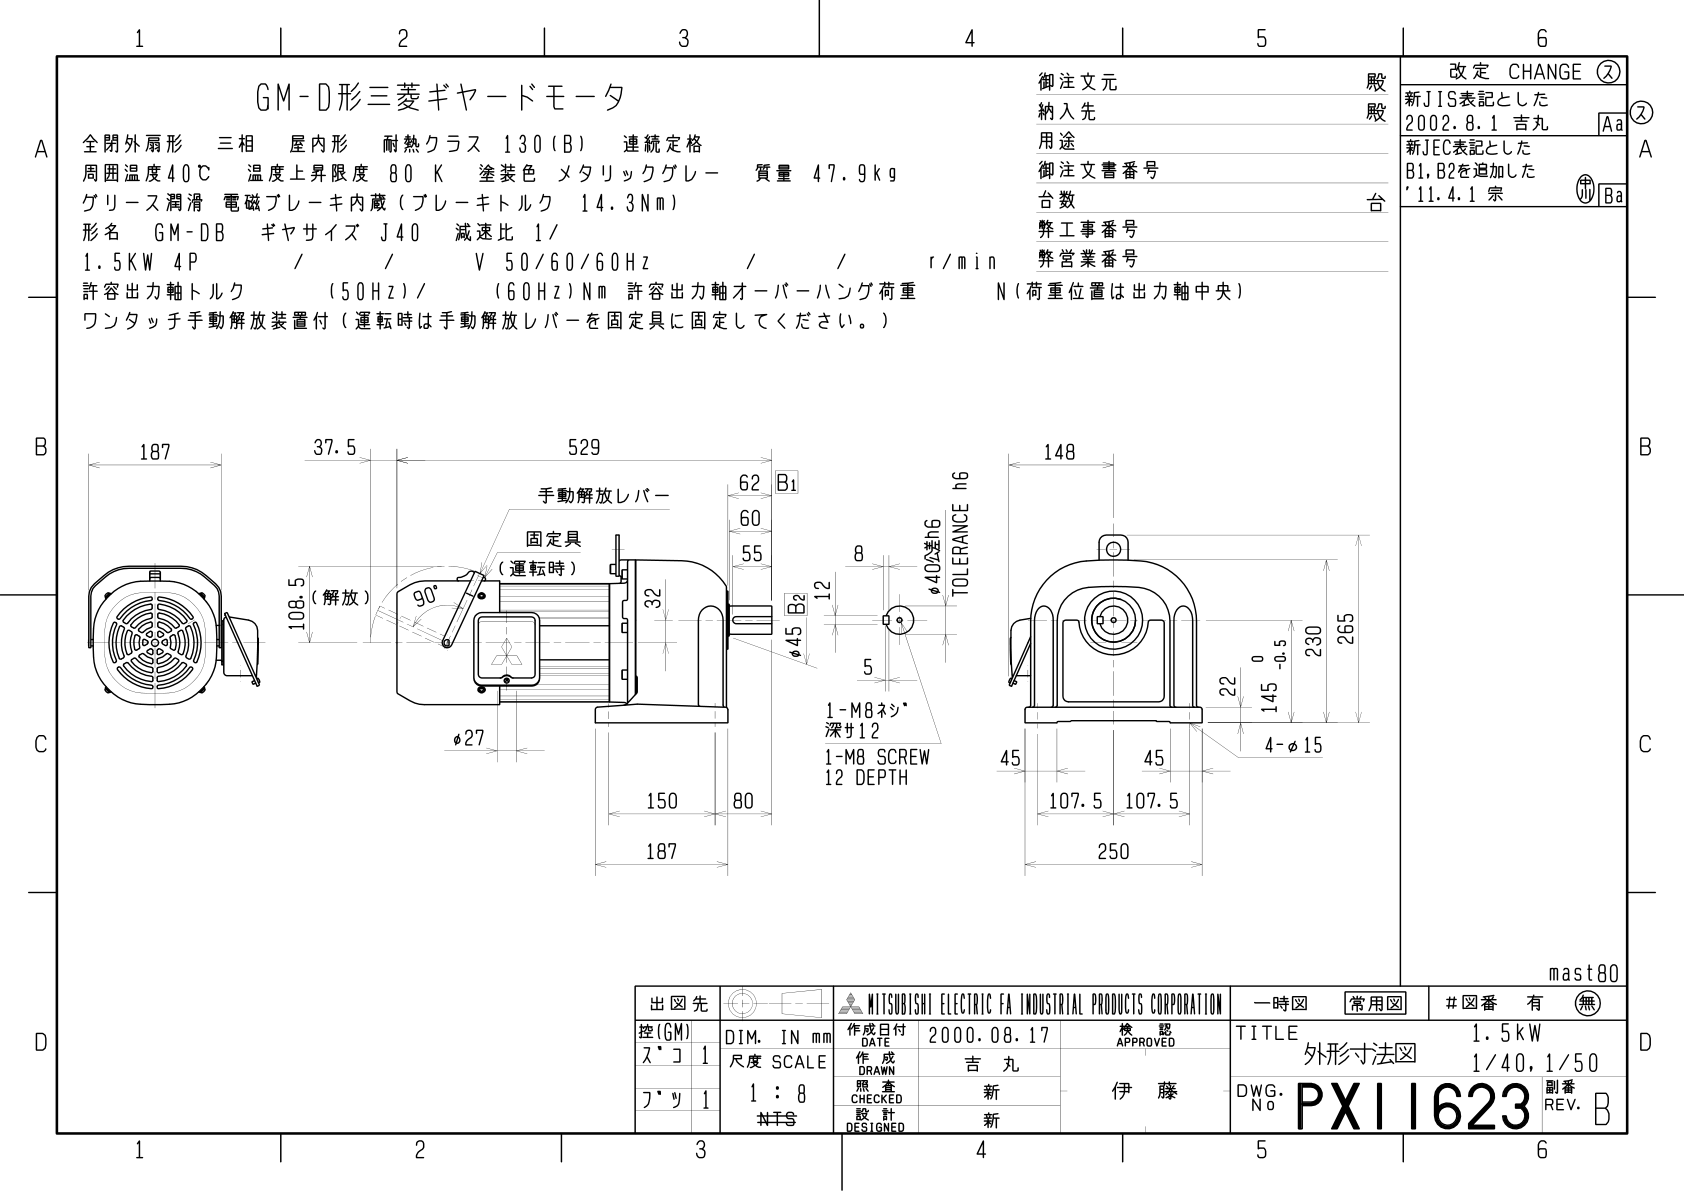GM_D_手動解放ブレーキ＿三相_脚: (12, 3, 1684, 1191)
